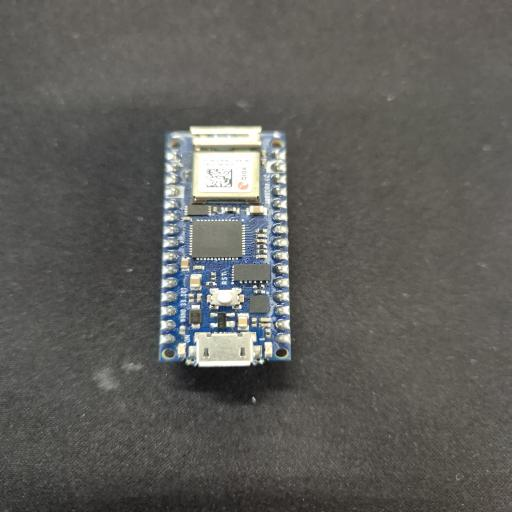arduino-nano-iot-33: (159, 127, 291, 366)
